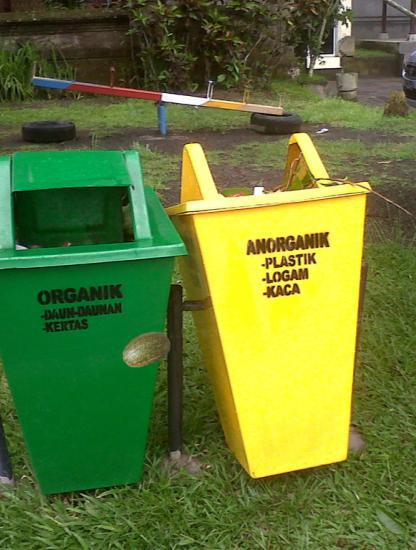Melon: (122, 327, 173, 378)
